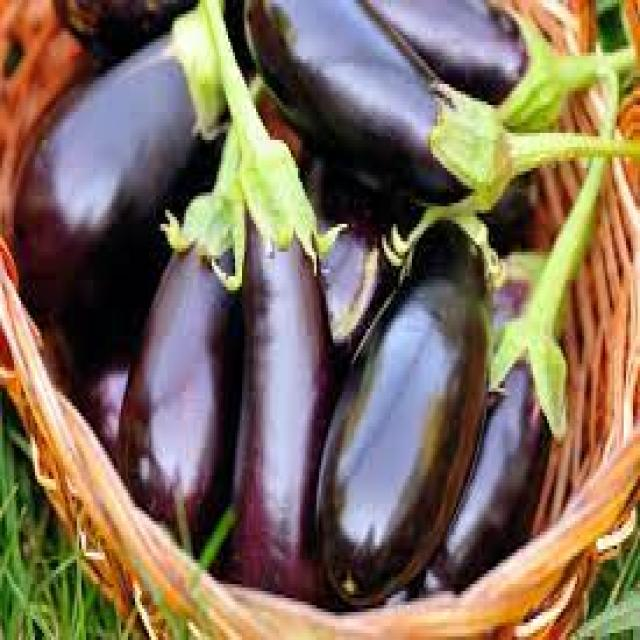eggplant: (205, 2, 333, 600), (319, 224, 486, 609), (119, 129, 244, 548)
